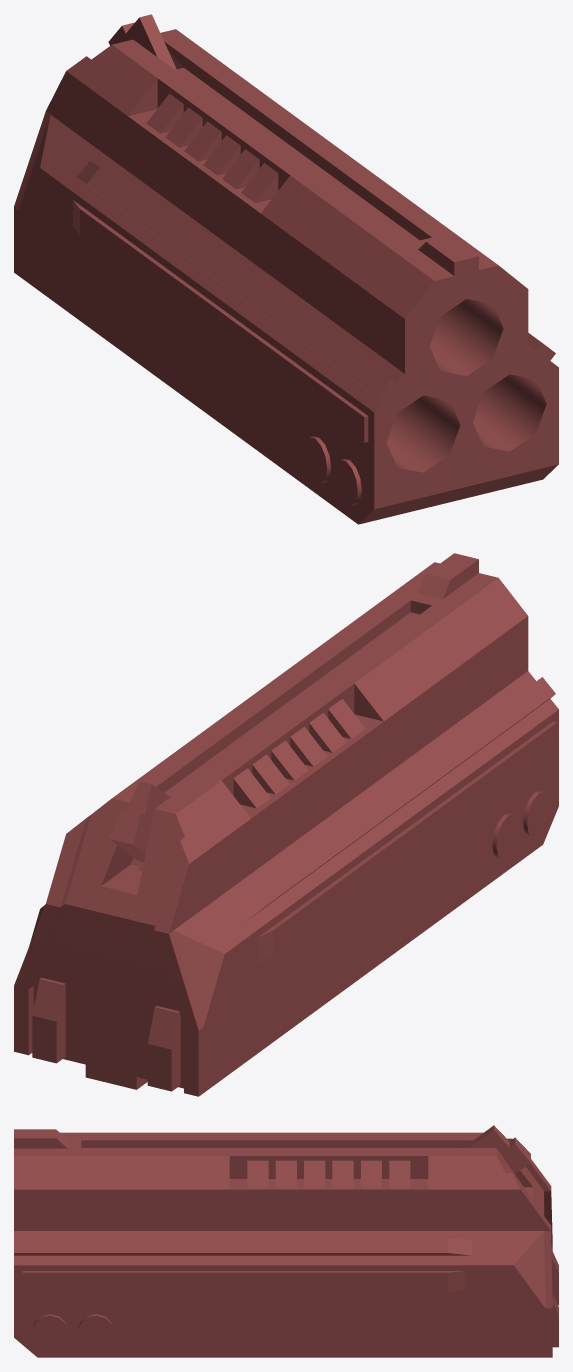
File: WM0_Cannon_x3_LVL3.FBX
3 views of the same model, one above another, from view 1: azimuth 30°, elevation 25°; view 2: azimuth 150°, elevation 25°; view 3: azimuth 270°, elevation 25° (orthographic). The views are drawn at different scales.
Visible parts, largest first — view 1: WM0_Cannon_x3_LVL3; view 2: WM0_Cannon_x3_LVL3; view 3: WM0_Cannon_x3_LVL3.
Part boxes in pixels (<box>): WM0_Cannon_x3_LVL3: <box>14,14,558,524</box>; WM0_Cannon_x3_LVL3: <box>14,553,558,1096</box>; WM0_Cannon_x3_LVL3: <box>14,1125,558,1357</box>.
Bounding box in the file's own units: 11.75 × 16.05 × 38.45.
